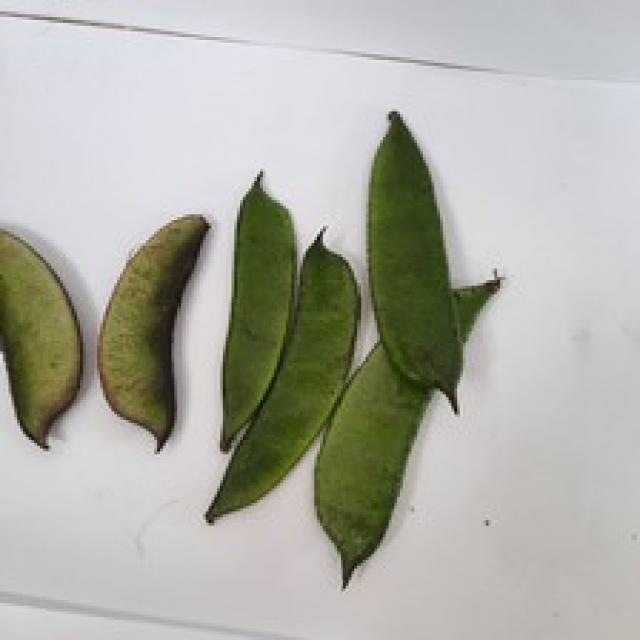Bean: (203, 226, 360, 523), (94, 212, 209, 452), (217, 168, 297, 452), (0, 226, 83, 448)
